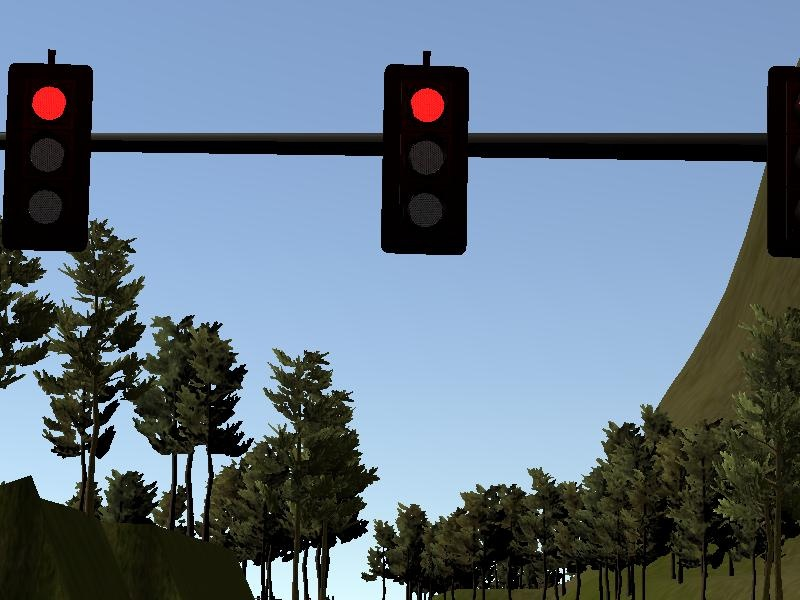RED: (379, 62, 471, 256), (1, 63, 90, 253)
